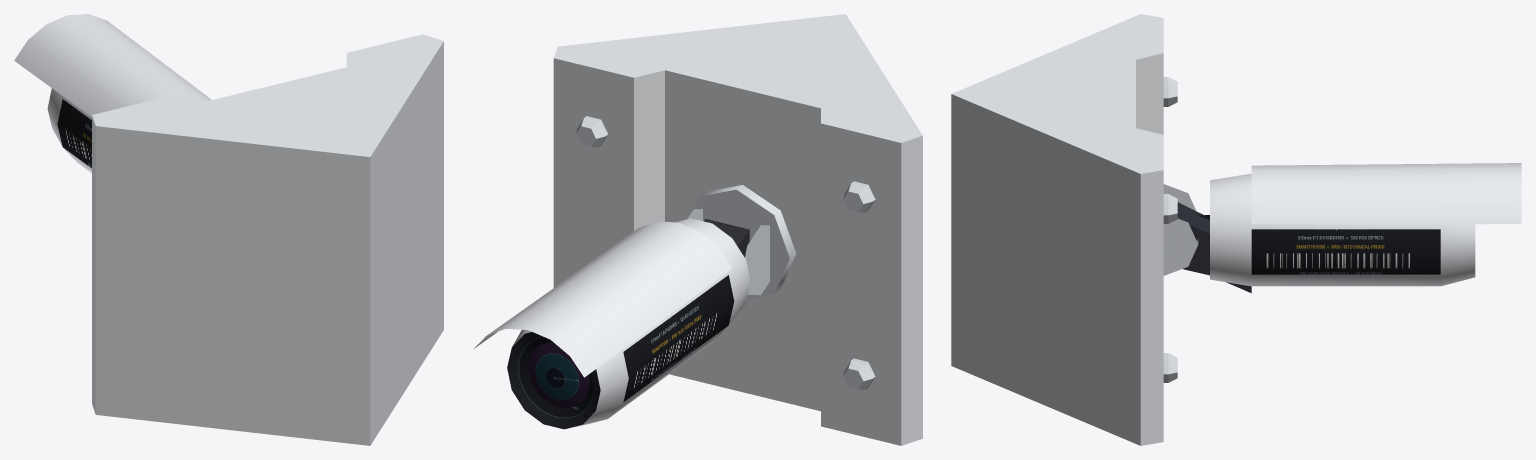
Rendered from SEC_Camera_Corner_Mount.fbx.
3 views of the same model, side by side, from view 1: azimuth 30°, elevation 25°; view 2: azimuth 150°, elevation 25°; view 3: azimuth 270°, elevation 25° (orthographic). The views are drawn at different scales.
Parts seen in each view (by area): view 1: Corner_Plate, Camera_Housing; view 2: Corner_Plate, Camera_Housing, Lens_Glass; view 3: Corner_Plate, Camera_Housing.
Boxes of the visible parts, box(x1,y1,x2,y2) form: Corner_Plate: box(92, 34, 443, 445); Camera_Housing: box(14, 14, 211, 173); Corner_Plate: box(553, 14, 922, 445); Camera_Housing: box(473, 218, 750, 429); Lens_Glass: box(528, 342, 589, 408); Corner_Plate: box(951, 14, 1198, 445); Camera_Housing: box(1177, 163, 1521, 293).
Size of the model in its own units: 16.4 by 13 by 24.7.
3 materials, 2 textured.
